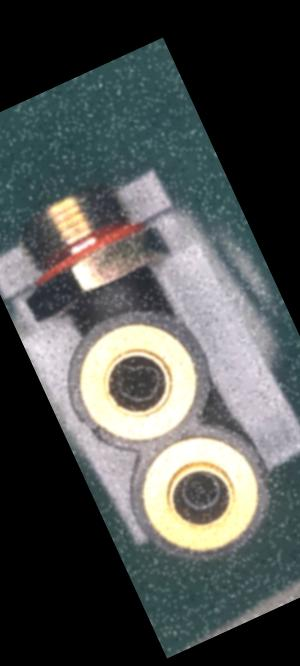bump: (249, 449, 280, 492), (77, 406, 109, 447)
off-centered: (104, 348, 177, 419)
white mark: (110, 288, 129, 307)
